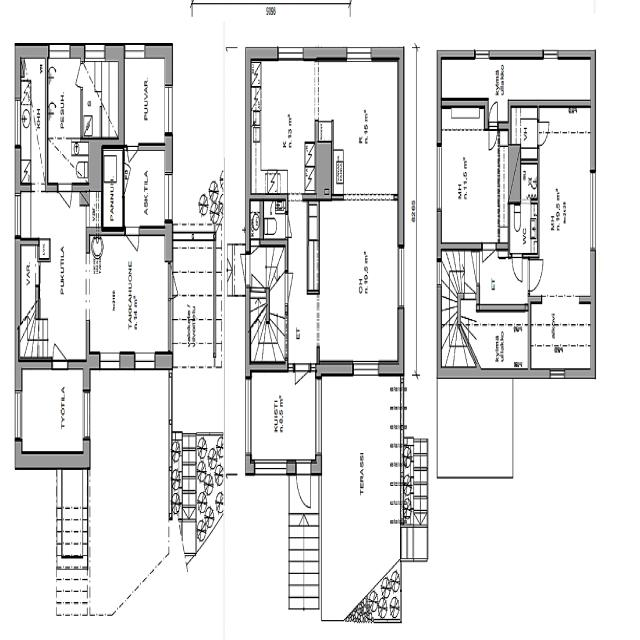door: (165, 263, 186, 298), (296, 454, 310, 504), (52, 324, 67, 368), (230, 255, 250, 287), (126, 226, 140, 268), (295, 364, 309, 406), (58, 183, 72, 224), (482, 242, 496, 282), (122, 163, 138, 195), (463, 252, 479, 284), (528, 260, 543, 292), (285, 273, 300, 303), (252, 257, 264, 292), (127, 144, 138, 177), (464, 266, 475, 299), (284, 214, 298, 238), (537, 122, 550, 146), (512, 252, 522, 283), (71, 63, 83, 87), (489, 100, 497, 130), (489, 121, 497, 150), (251, 239, 259, 266)
